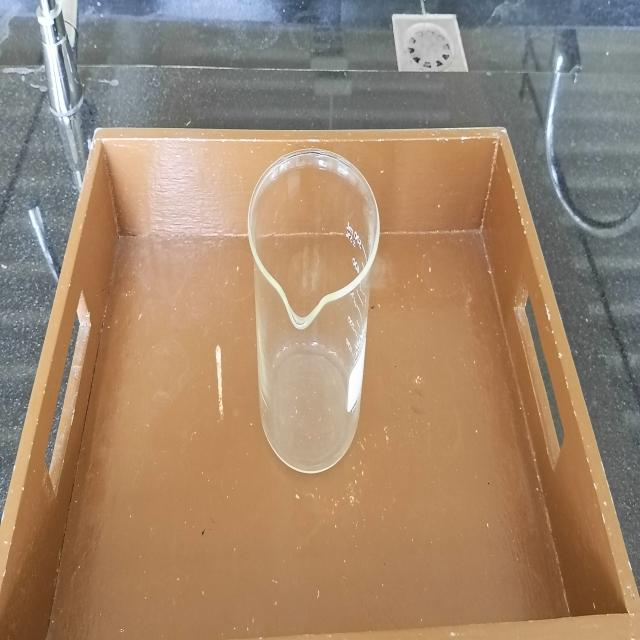beaker: (244, 145, 382, 479)
